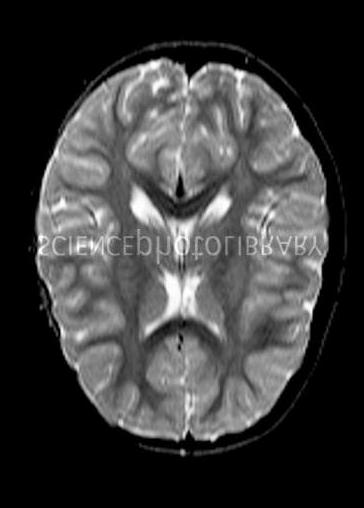Normal_Brain: (1, 2, 357, 456)
